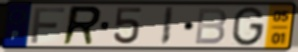5: (113, 6, 145, 46)
B: (193, 7, 229, 46)
F: (29, 6, 67, 45)
G: (230, 5, 267, 48)
I: (159, 6, 176, 47)
R: (60, 5, 105, 47)
